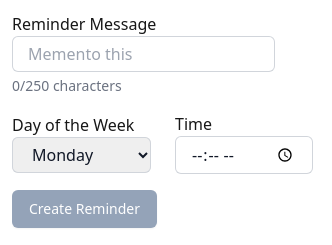
ReminderForm › updates character count as user types
Type "Test message" into the field labelled "Reminder Message" at (144,54), box [12,36,275,72]
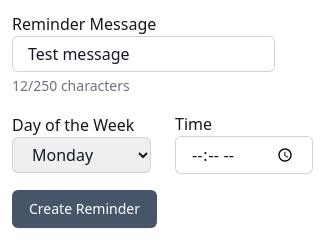
Check: the text "12/250 characters" is shown, box [12,76,130,95]
